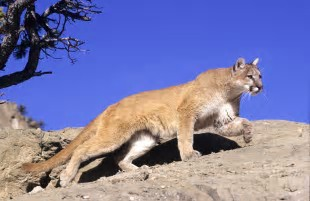Mountain Lion: (71, 55, 266, 176)
